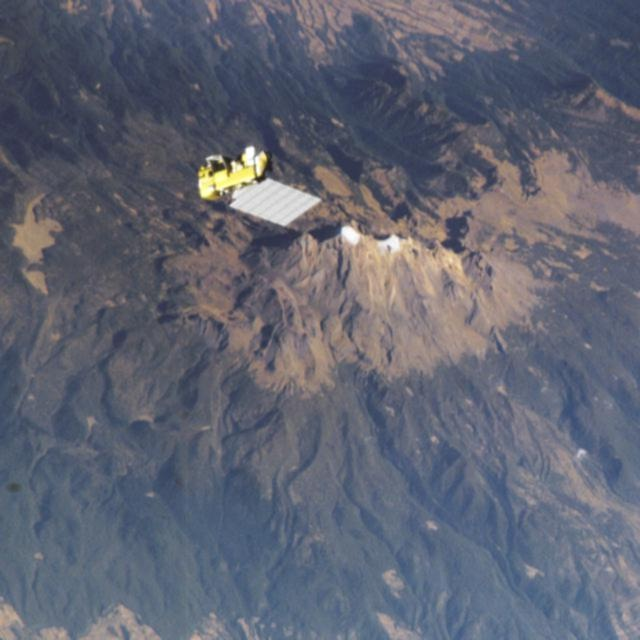satellite: (177, 150, 321, 238)
